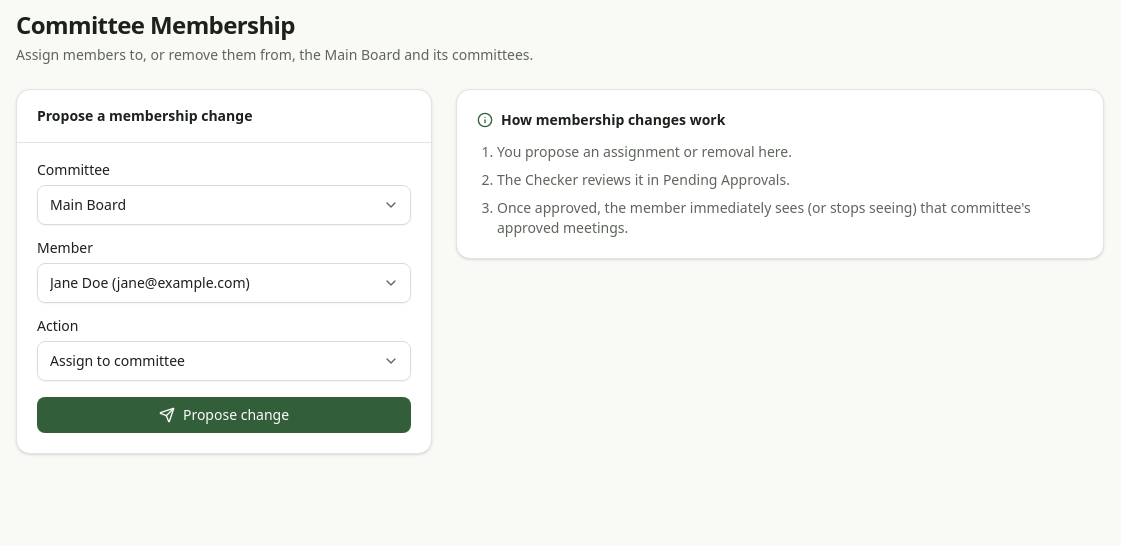
Test case: AdminCommitteeMembership › proposes a membership change and shows a success message referencing the Pending Approvals queue
Click the button "Propose change".
click(224, 415)  # box x1=37 y1=397 x2=411 y2=433
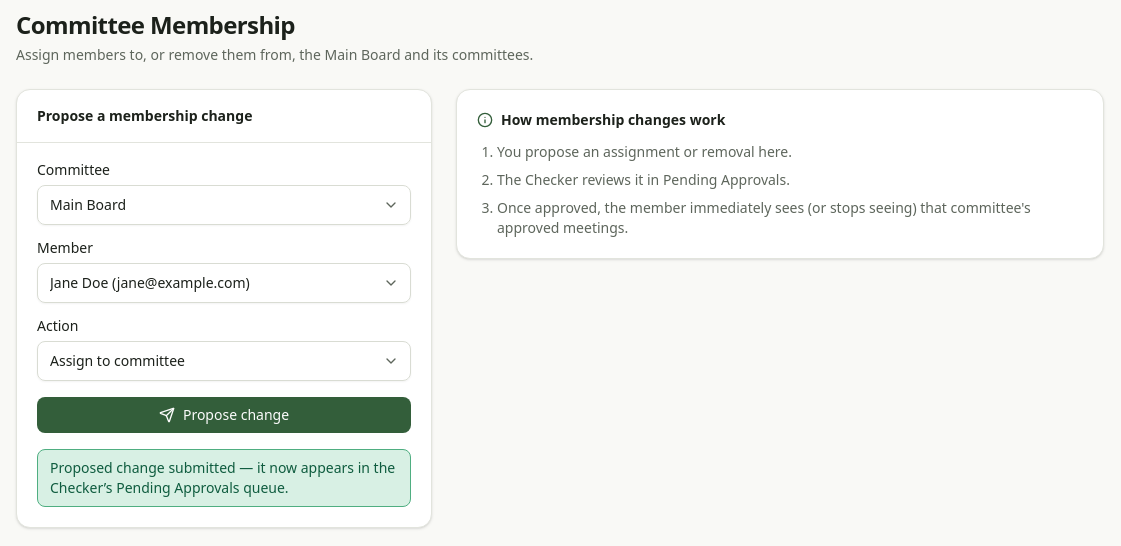
Result: the text "now appears in the Checker.s Pending Approvals queue" is shown at x1=50 y1=458 x2=395 y2=497
